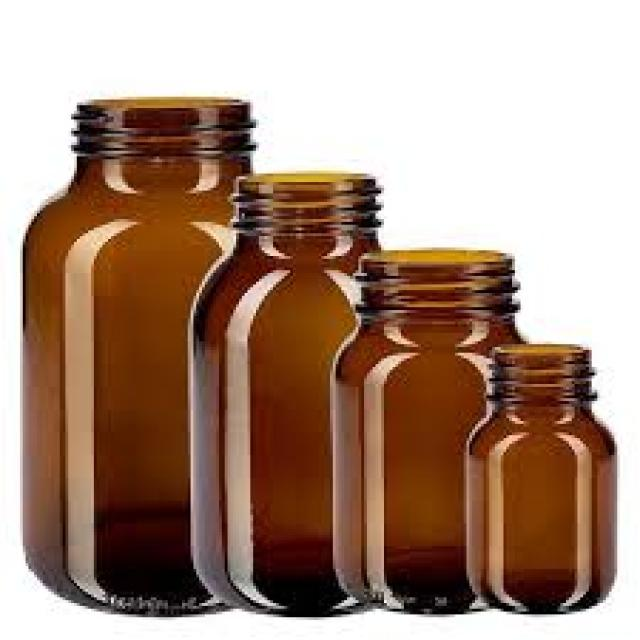glass: (23, 97, 253, 614), (185, 171, 381, 614), (330, 248, 523, 618), (464, 342, 615, 615)
